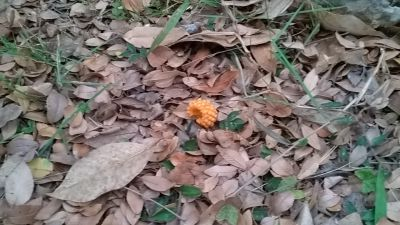eggs: (189, 97, 219, 128)
